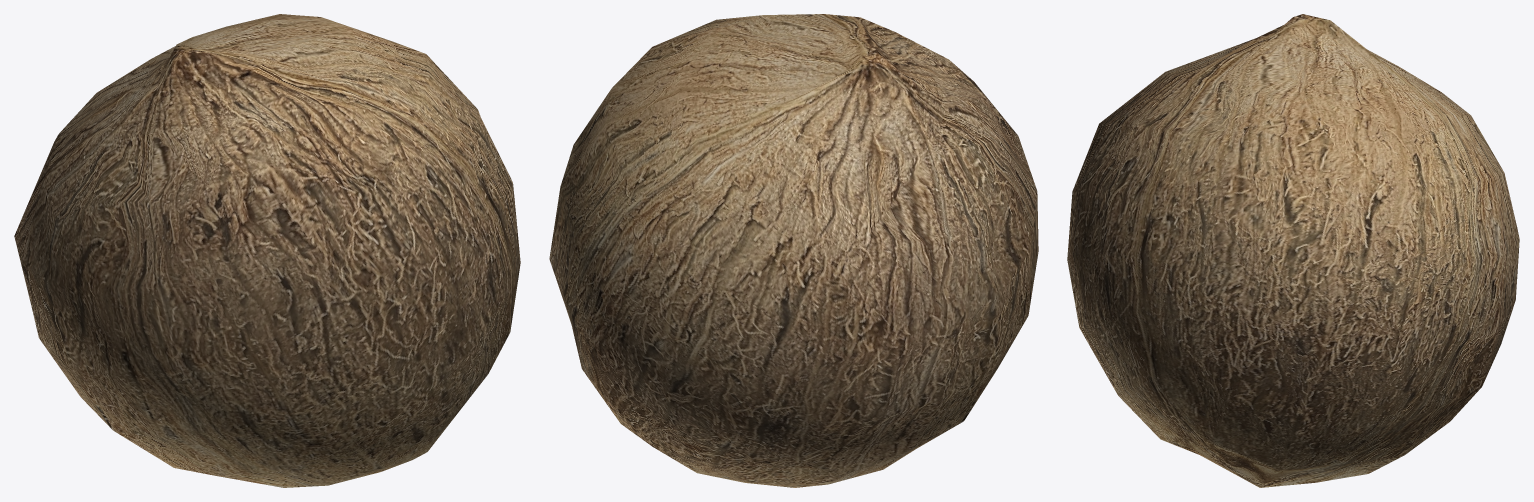
The model's file is A118_Coconut_low.fbx.
3 views of the same model, side by side, from view 1: azimuth 30°, elevation 25°; view 2: azimuth 150°, elevation 25°; view 3: azimuth 270°, elevation 25° (orthographic). The views are drawn at different scales.
Visible parts, largest first — view 1: A118_Coconut_low; view 2: A118_Coconut_low; view 3: A118_Coconut_low.
Part boxes in pixels (left/top/right/bottom): A118_Coconut_low: left=14, top=14, right=520, bottom=487; A118_Coconut_low: left=549, top=14, right=1038, bottom=487; A118_Coconut_low: left=1067, top=14, right=1519, bottom=487.
Size of the model in its own units: 11.66 by 11.51 by 11.28.
1 material, 1 textured.
